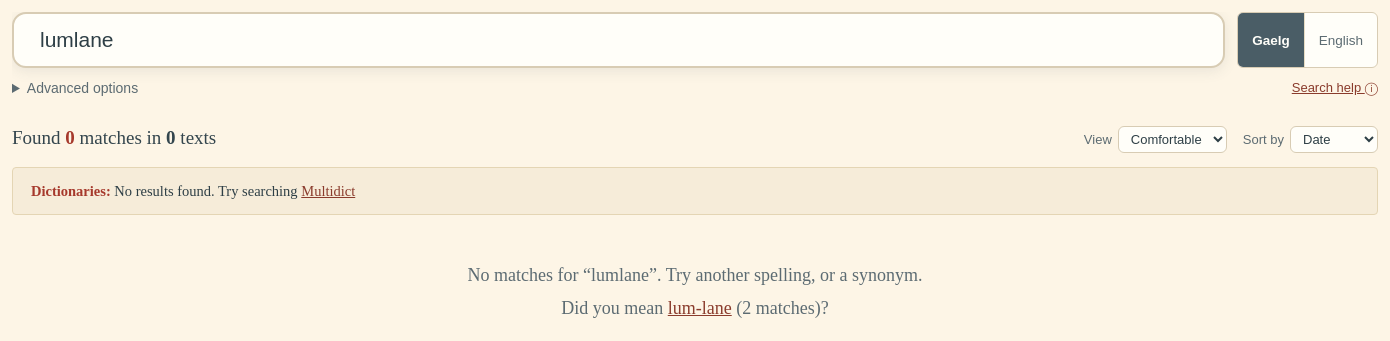
it: did-you-mean suggestion › suggests the alternate forms the server returned
This screenshot has width=1390, height=341.
Expected: the text "Did you mean lum-lane (2 matches)?" is shown, [561,298,829,320]
Click the button "lum-lane". click: (700, 309)
box: [668,298,732,320]
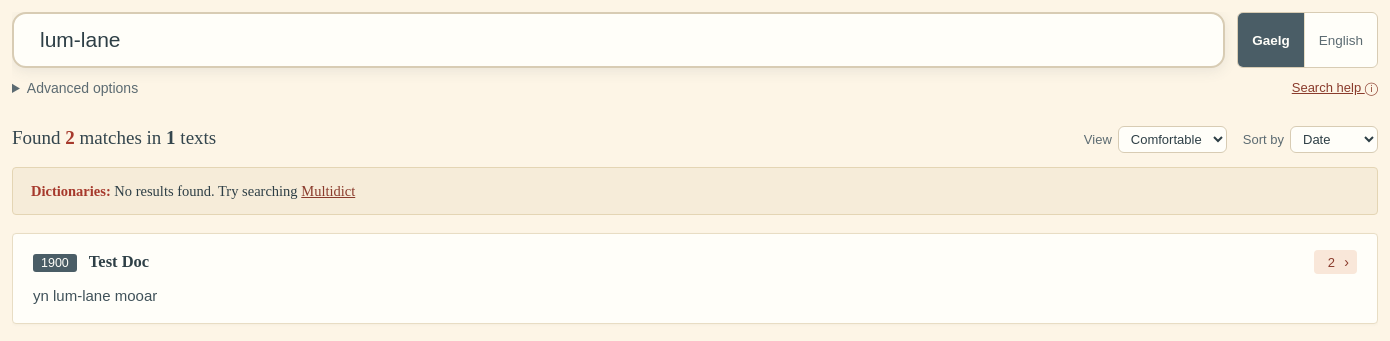
Expected: the link "Test Doc" is shown, [89,252,149,272]
